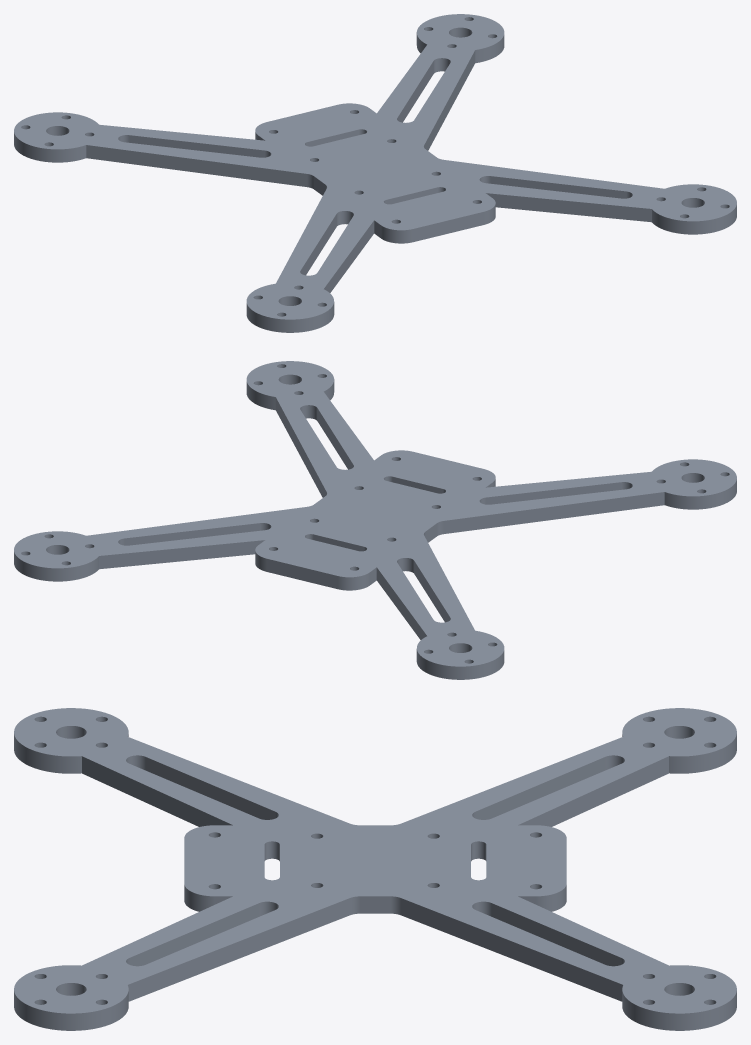
The model's file is step-4-preview-1.glb.
3 renders of one model, top to bottom at view 1: azimuth 30°, elevation 25°; view 2: azimuth 150°, elevation 25°; view 3: azimuth 270°, elevation 25°, orthographic. The views are drawn at different scales.
Visible parts, largest first — view 1: preview_4, preview_16, preview_11, preview_6, preview_13, preview_46, preview_60, preview_18, preview_5, preview_23, preview_2, preview_25; view 2: preview_4, preview_8, preview_27, preview_18, preview_25, preview_75, preview_35, preview_6, preview_26, preview_15, preview_20, preview_13; view 3: preview_4, preview_15, preview_23, preview_2, preview_20, preview_13, preview_25, preview_48, preview_73, preview_37, preview_58, preview_6 (+2 smaller).
Boxes of the visible parts, x1,y1,x2,y2 form: preview_4: [14, 14, 736, 319]; preview_16: [86, 145, 307, 186]; preview_11: [486, 193, 651, 222]; preview_6: [246, 302, 334, 332]; preview_13: [652, 205, 736, 234]; preview_46: [490, 176, 626, 198]; preview_60: [129, 135, 264, 157]; preview_18: [14, 132, 86, 162]; preview_5: [413, 212, 483, 242]; preview_23: [424, 50, 475, 150]; preview_2: [324, 220, 374, 292]; preview_25: [416, 32, 504, 63]; preview_4: [14, 361, 736, 666]; preview_8: [443, 492, 664, 533]; preview_27: [99, 540, 264, 569]; preview_18: [416, 649, 504, 679]; preview_25: [14, 552, 98, 581]; preview_75: [124, 523, 260, 545]; preview_35: [486, 482, 621, 504]; preview_6: [664, 479, 736, 509]; preview_26: [267, 559, 337, 589]; preview_15: [275, 397, 326, 497]; preview_20: [376, 567, 426, 639]; preview_13: [246, 379, 334, 410]; preview_4: [14, 708, 736, 1013]; preview_15: [128, 898, 349, 1001]; preview_23: [401, 898, 622, 1001]; preview_2: [82, 756, 232, 826]; preview_20: [518, 756, 668, 826]; preview_13: [14, 991, 128, 1030]; preview_25: [622, 991, 736, 1030]; preview_48: [129, 903, 259, 966]; preview_73: [491, 903, 621, 966]; preview_37: [145, 757, 275, 819]; preview_58: [475, 757, 605, 819]; preview_6: [14, 734, 128, 773].
Bounding box in the file's own units: 0.1891 × 0.005 × 0.1891.
